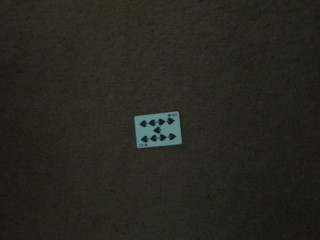NineOfSpades: (134, 111, 182, 149)
